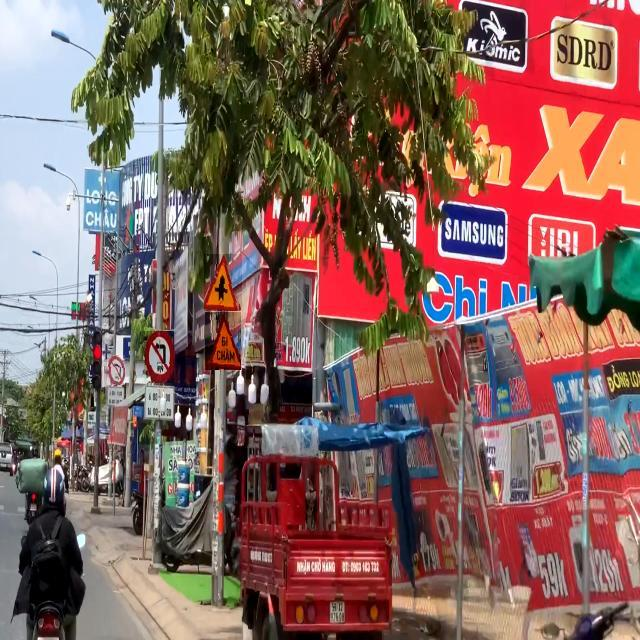P-103c: (145, 331, 175, 383), (107, 355, 125, 385)
W-207a: (204, 254, 242, 311)
W-245a: (205, 312, 241, 370)
